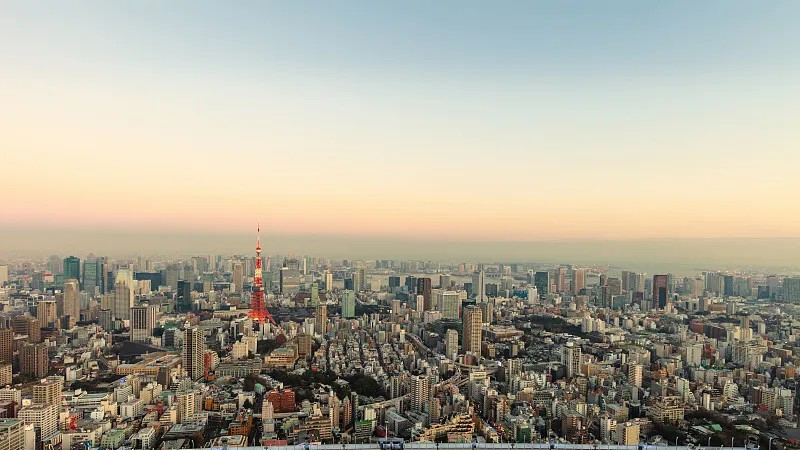Tokyo: (244, 218, 274, 327)
